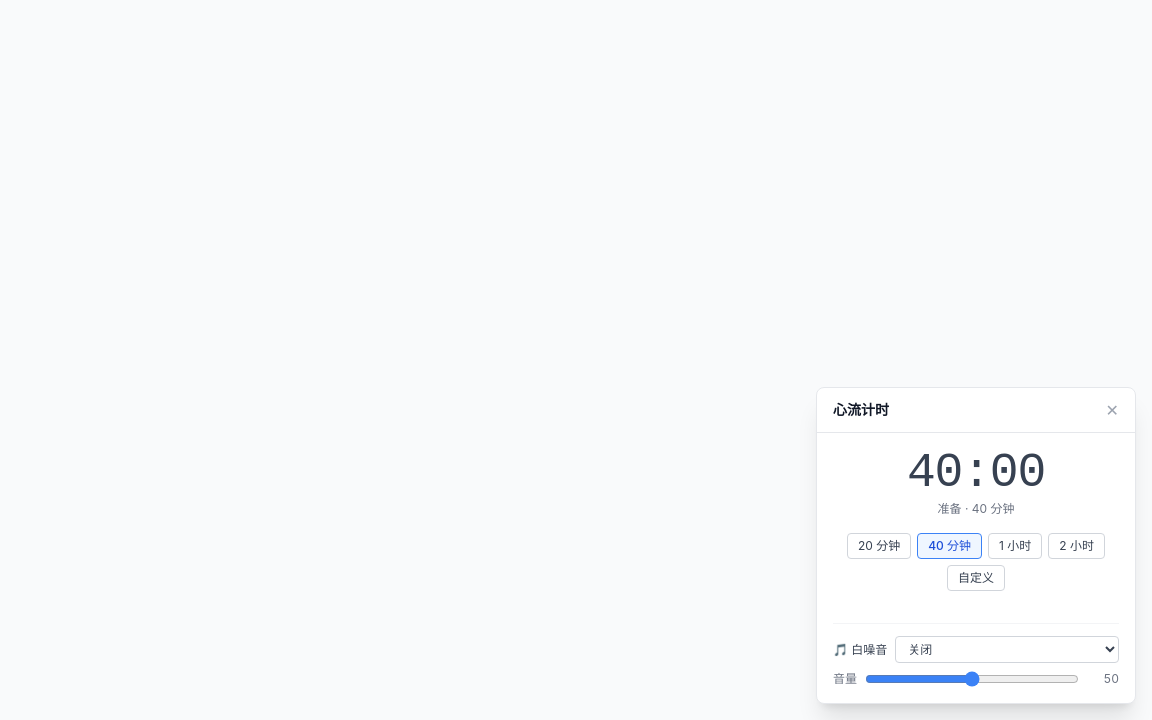
Test case: FocusTimer › custom duration: typing then start
Step 1. Click the button "自定义" → (976, 578), box x1=947 y1=565 x2=1005 y2=591
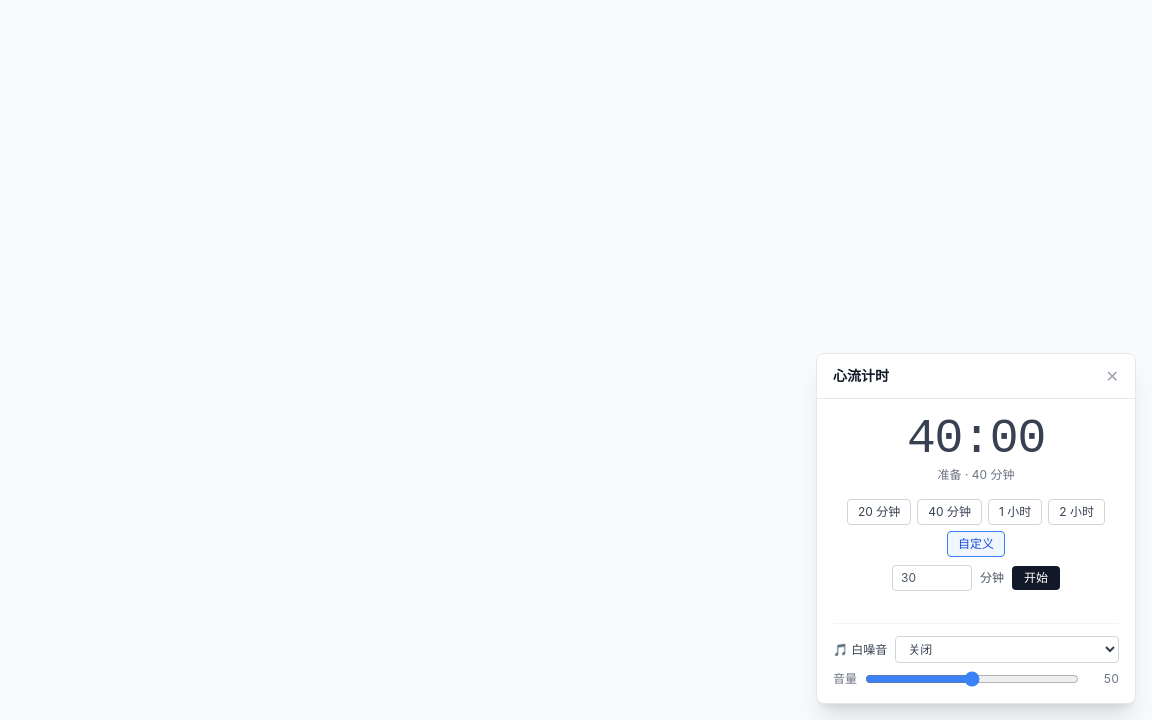
Step 2. Replace the text in the number field with "5" → (932, 578), box x1=892 y1=565 x2=972 y2=591
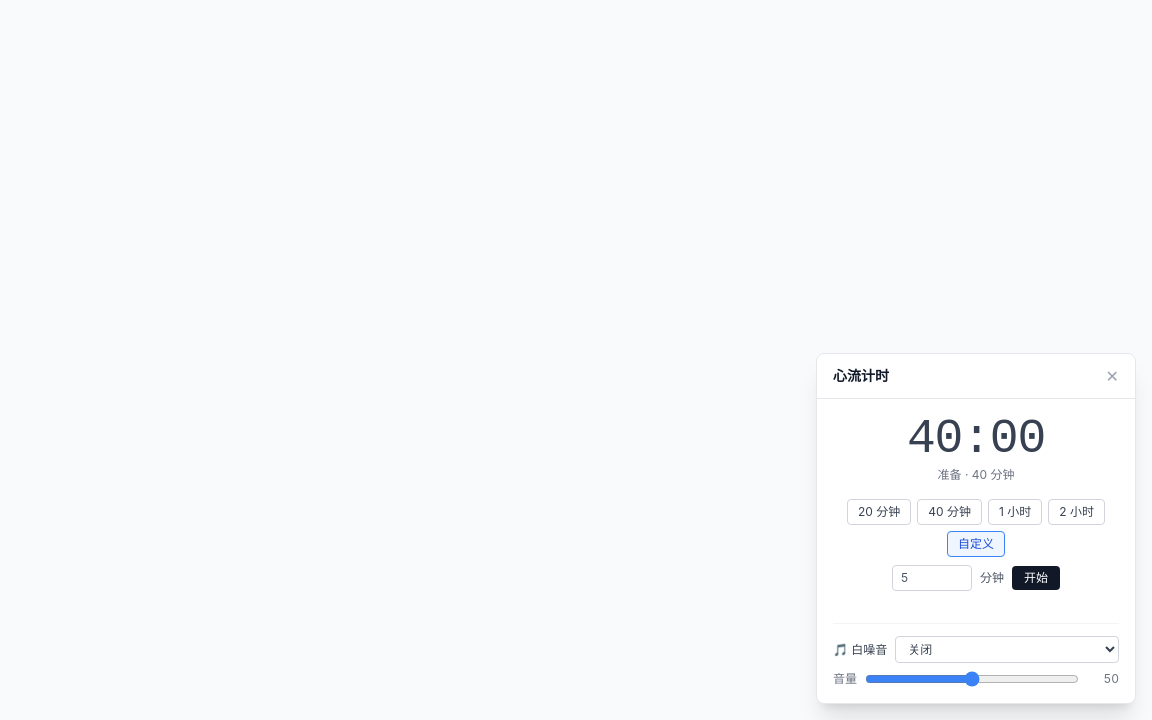
Step 3. Click the button "开始" → (1036, 578), box x1=1012 y1=566 x2=1060 y2=590
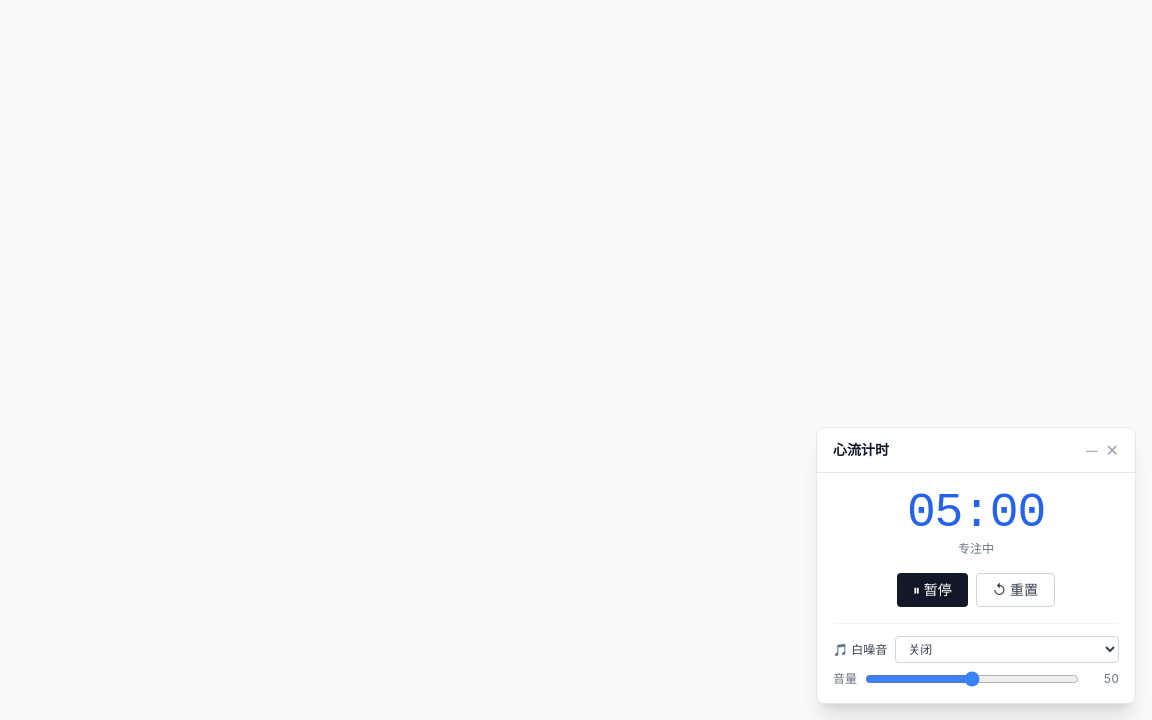
Expected: the text "专注中" is shown, x1=958 y1=541 x2=994 y2=556
Expected: the text "05:00" is shown, x1=907 y1=486 x2=1045 y2=540
